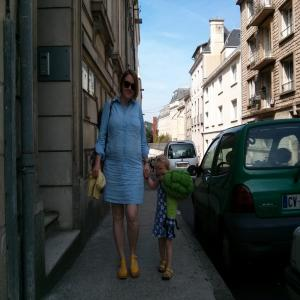Vehicle-registration-plate: (282, 195, 300, 211), (178, 164, 189, 168)
